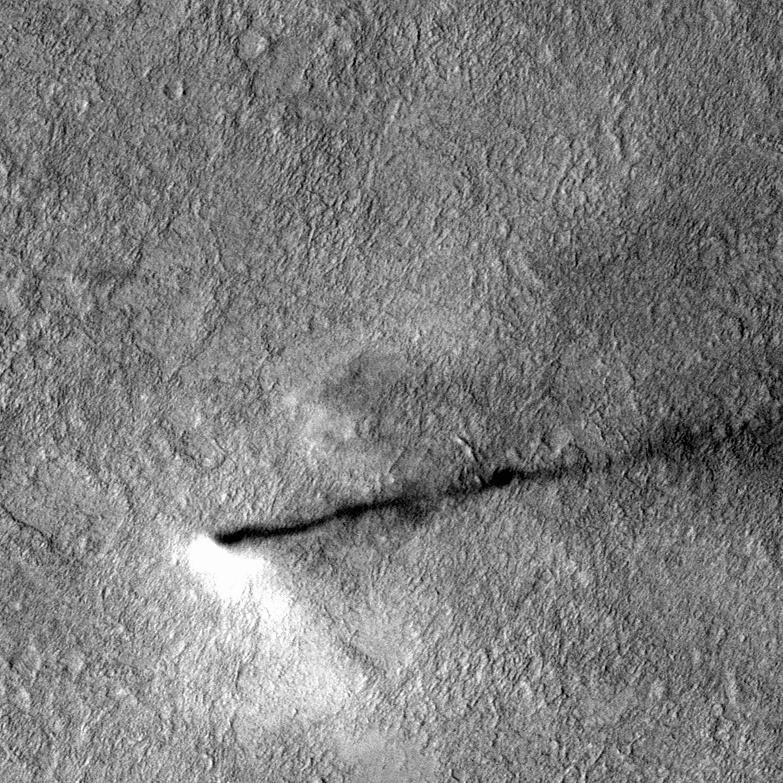dust_devil: (182, 414, 783, 614)
